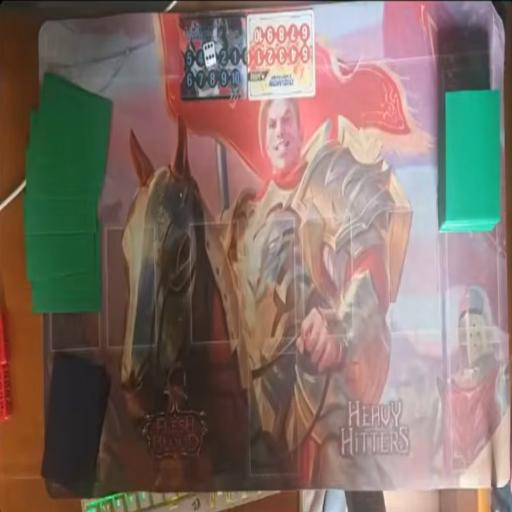card: (441, 88, 504, 236)
